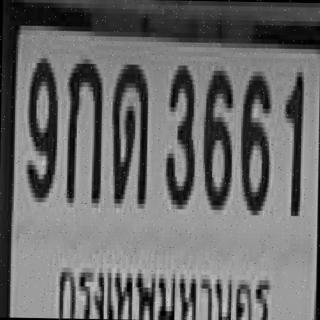A01: (65, 54, 101, 198)
A20: (109, 57, 147, 202)
N01: (282, 67, 302, 211)
N03: (163, 60, 194, 204)
N06: (238, 66, 270, 211), (201, 66, 232, 205)
N09: (24, 53, 56, 198)
P04: (48, 250, 278, 320)
